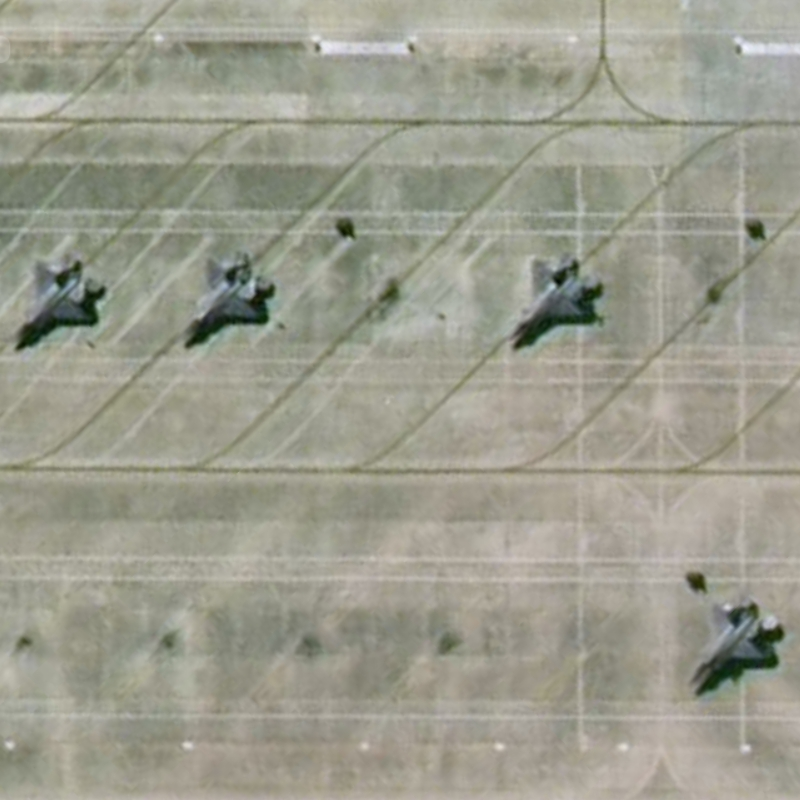A15: (678, 586, 789, 695), (492, 244, 606, 349), (179, 245, 278, 350), (9, 248, 110, 349)
